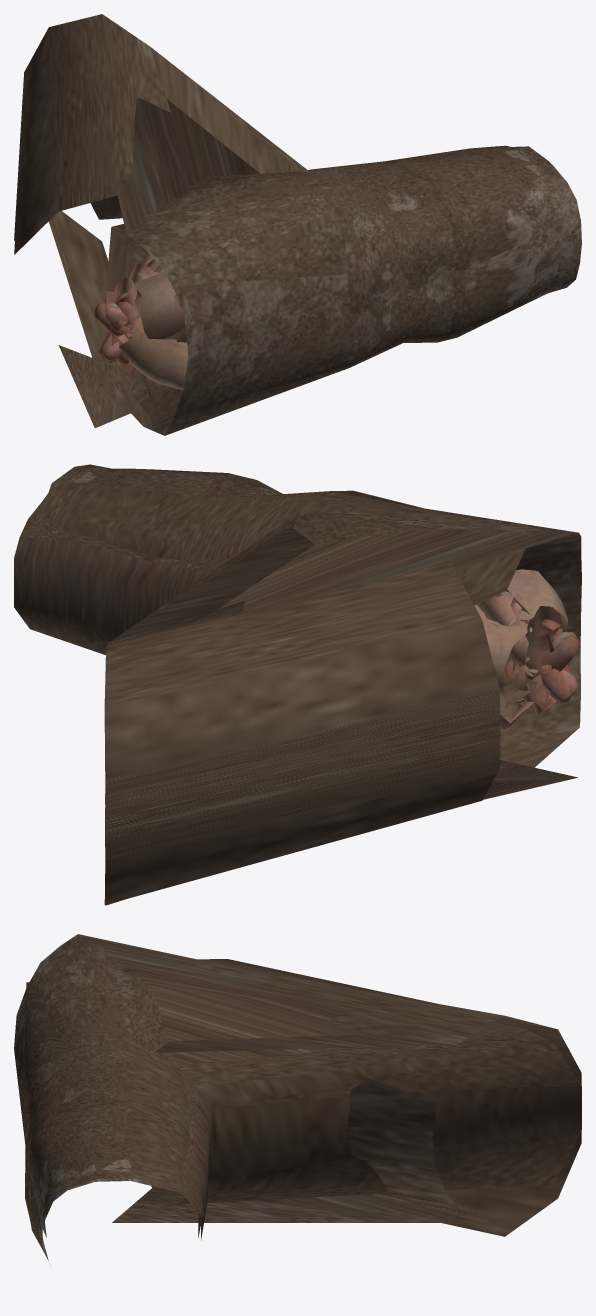
The model's file is viewmodel_hands_german_afrika.glb.
3 views of the same model, one above another, from view 1: azimuth 30°, elevation 25°; view 2: azimuth 150°, elevation 25°; view 3: azimuth 270°, elevation 25° (orthographic). The views are drawn at different scales.
Size of the model in its own units: 13.13 by 6.21 by 14.45.
1 material, 1 textured.
